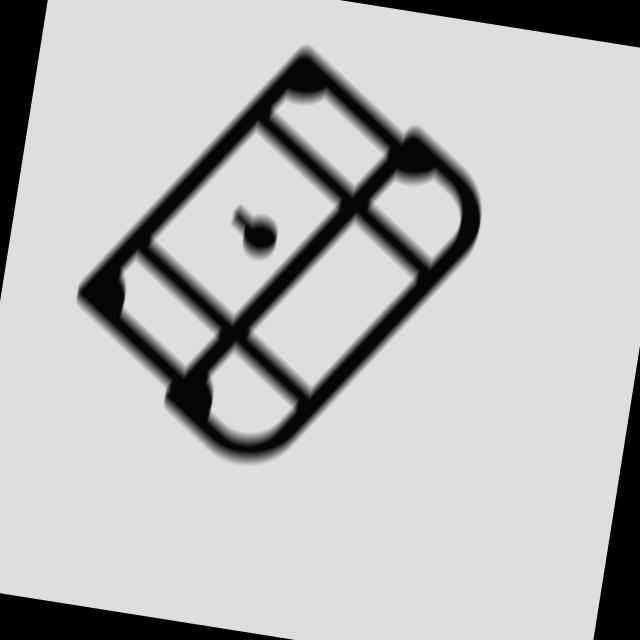treasure_box: (45, 5, 516, 508)
